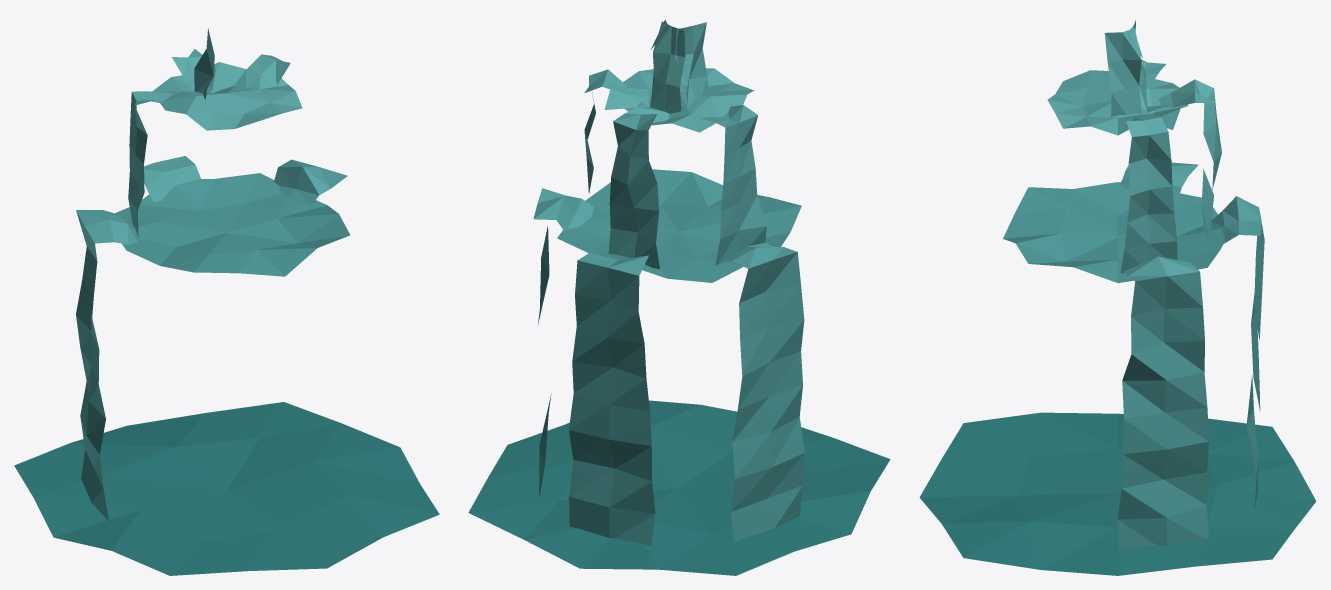
The model's file is WaterFountain.gltf.
3 views of the same model, side by side, from view 1: azimuth 30°, elevation 25°; view 2: azimuth 150°, elevation 25°; view 3: azimuth 270°, elevation 25° (orthographic).
Parts seen in each view (by area): view 1: WaterFont; view 2: WaterFont; view 3: WaterFont.
Boxes of the visible parts, x1,y1,x2,y2 form: WaterFont: (14,28,439,575); WaterFont: (468,19,890,575); WaterFont: (919,20,1316,575).
Size of the model in its own units: 1.67 by 2.22 by 1.67.
Materials: 1 (1 with a texture image).
